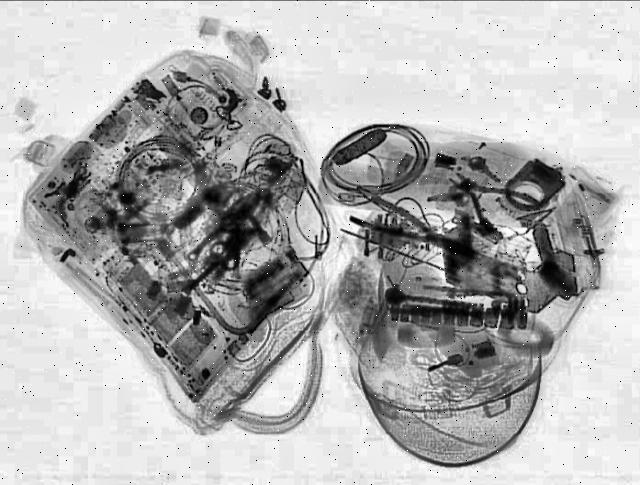Pliers: (346, 194, 478, 266), (426, 158, 542, 238)
